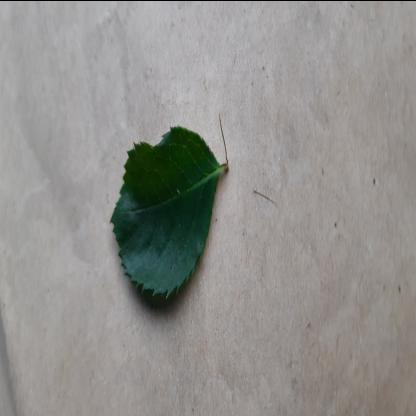normal: (106, 110, 218, 304)
